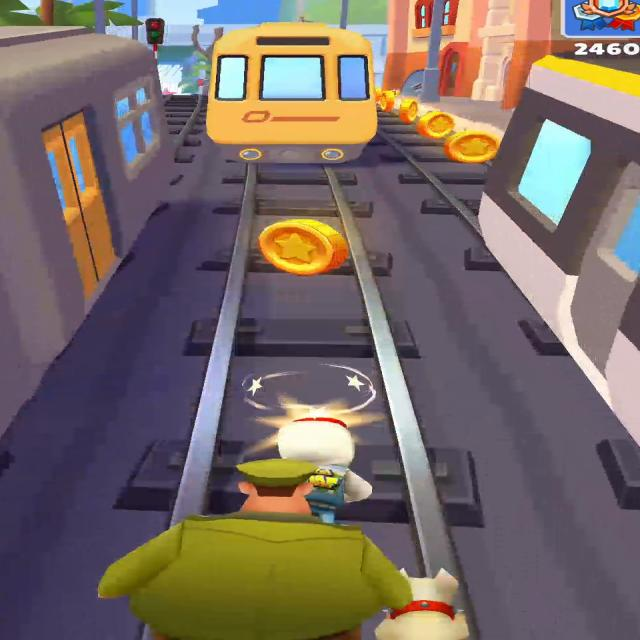police: (98, 458, 418, 640)
train: (0, 27, 173, 434), (480, 55, 639, 445), (207, 22, 376, 165)
